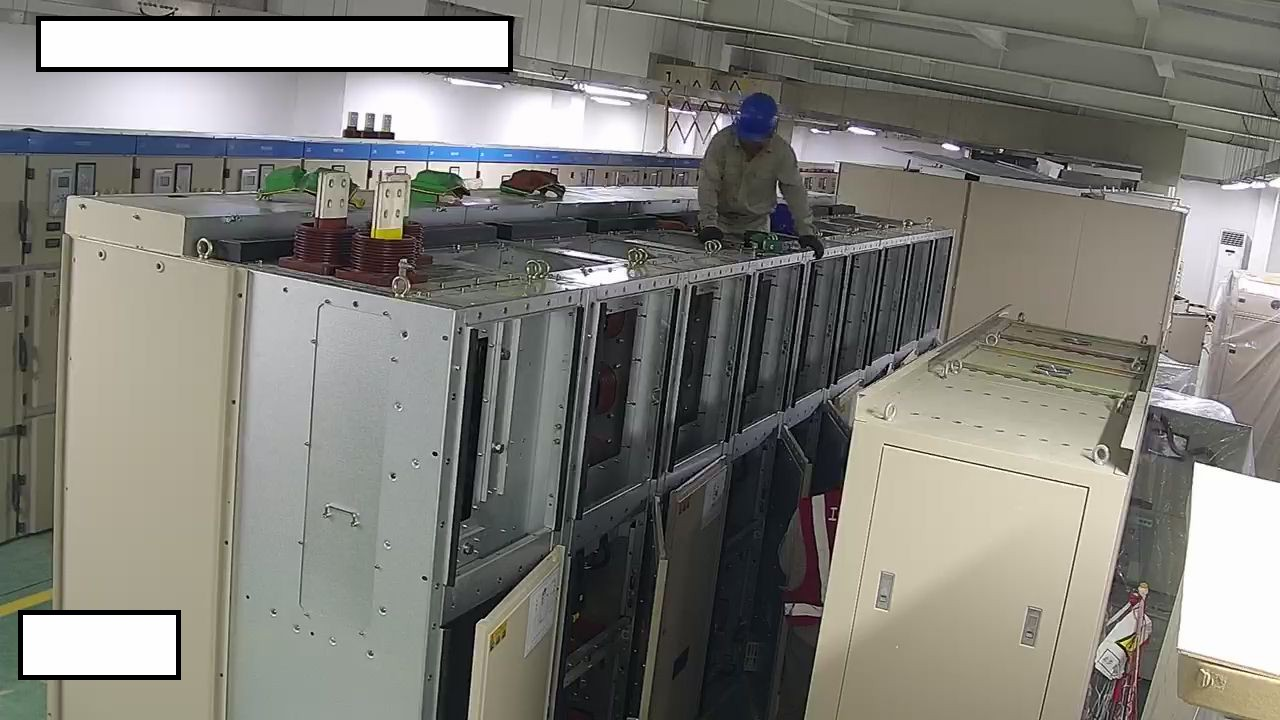hat: (732, 94, 784, 151)
